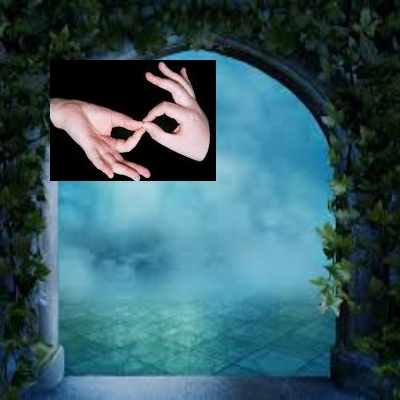hand: (50, 60, 216, 181)
